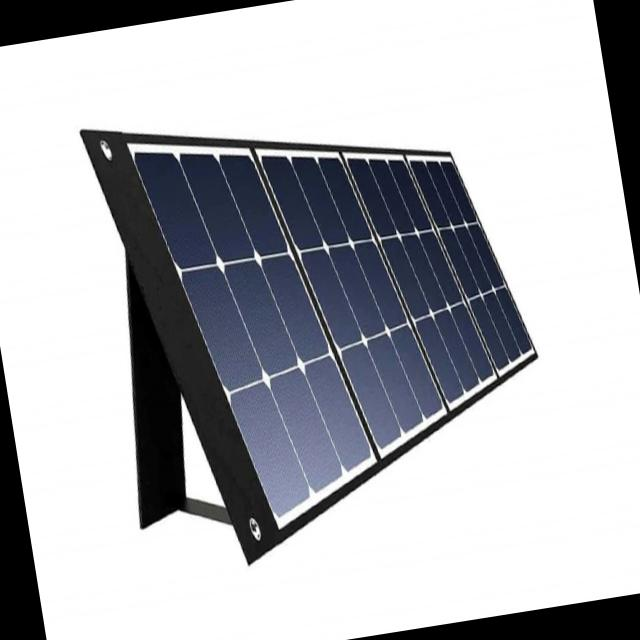no faulty: (136, 155, 534, 527)
